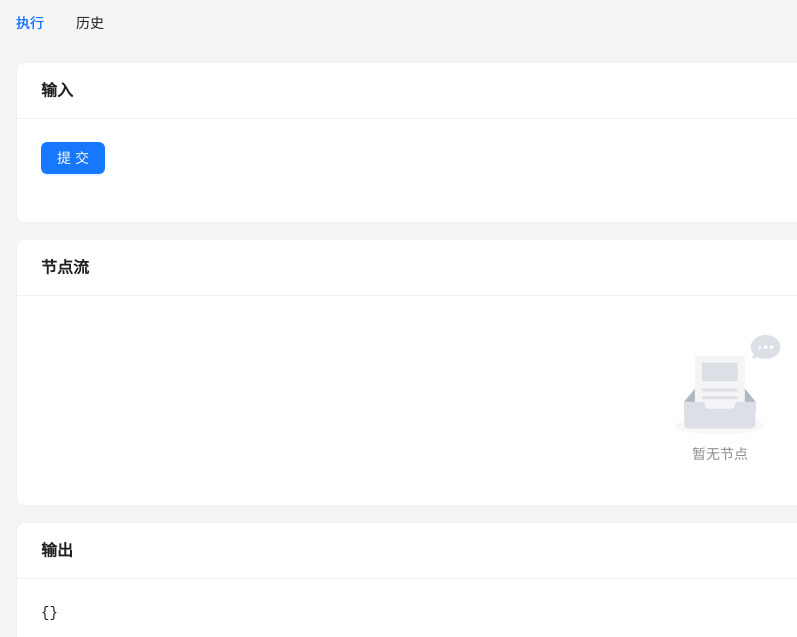
Test case: <WorkflowRunPage> (TASK-77) › AC#2(d) — workflow_finished frame → output state updates to data.outputs
The width and height of the screenshot is (797, 637).
Step 1. Click the button "提 交" → (73, 158), box x1=41 y1=142 x2=105 y2=174
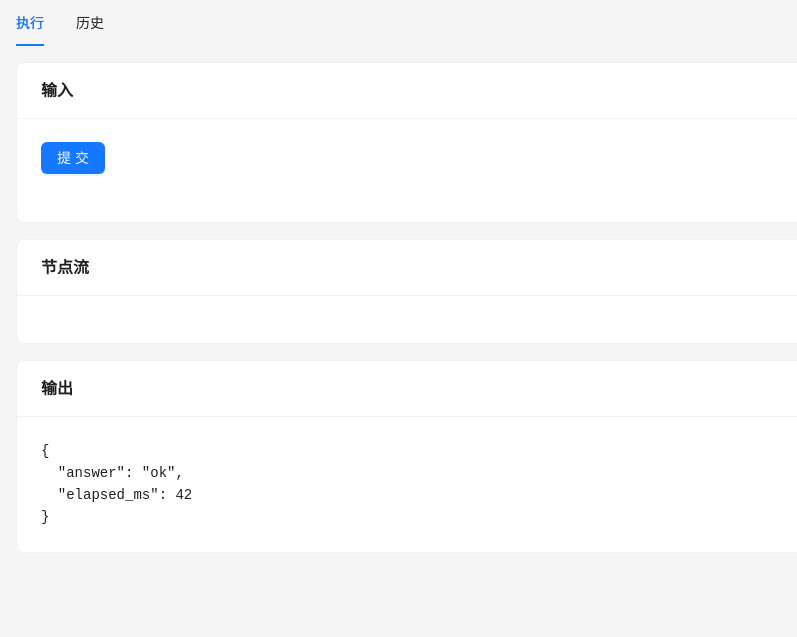
expect the text with test id "workflow-output" shows "\"answer\"": met, box x1=41 y1=443 x2=192 y2=525
expect the text with test id "workflow-output" shows "\"ok\"": met, box x1=41 y1=443 x2=192 y2=525
expect the text with test id "workflow-output" shows "\"elapsed_ms\"": met, box x1=41 y1=443 x2=192 y2=525
